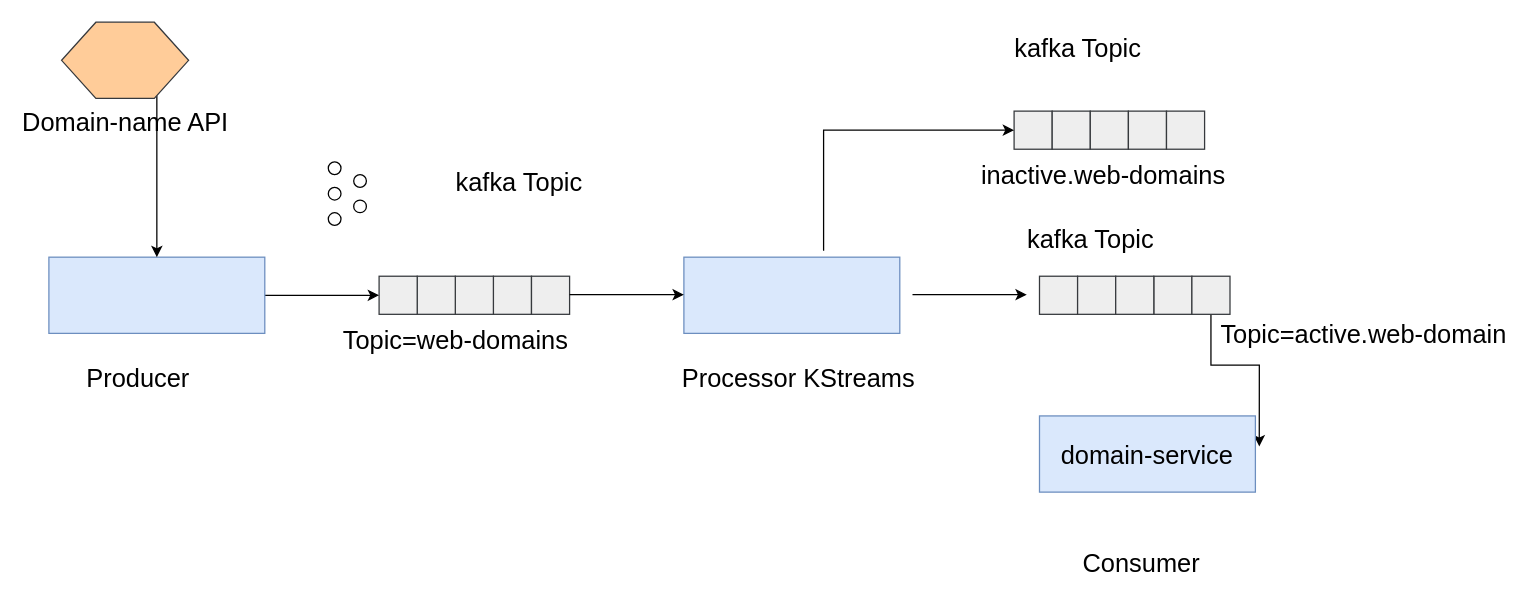
This 1537x603 diagram has some shape labels left out. The centre of each missing label's shape, as x and y in pixels:
domain-crawler: the point at 156,294
domain-processor: the point at 791,294
